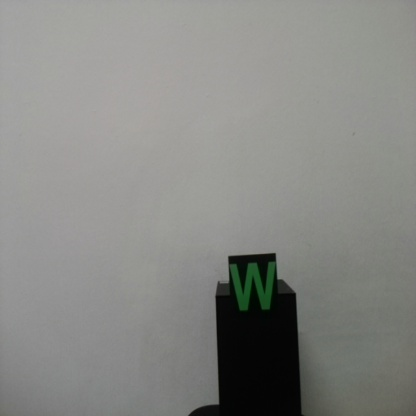id_12: (229, 254, 278, 324)
